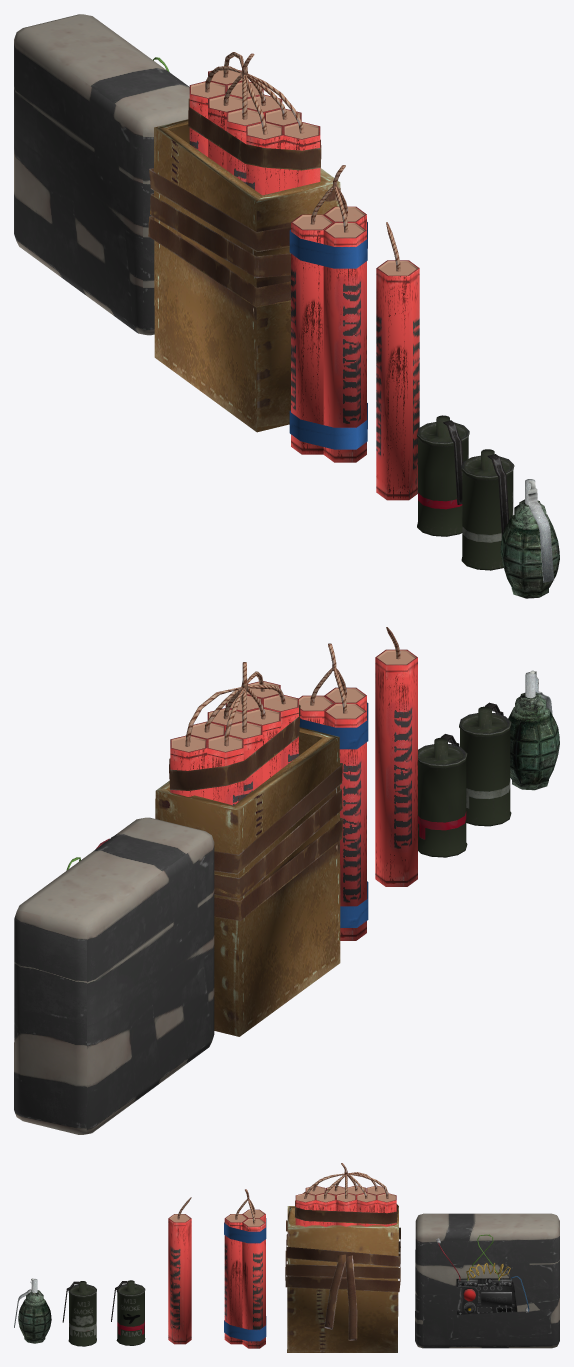
The model's file is взрыв.fbx.
The picture shows the model from 3 angles, top to bottom: view 1: azimuth 30°, elevation 25°; view 2: azimuth 150°, elevation 25°; view 3: azimuth 270°, elevation 25°; orthographic projection. The views are drawn at different scales.
Parts seen in each view (by area): view 1: w_c4_charge (1).001, w_satchel_charge.002, Цилиндр.002, Цилиндр.008, Цилиндр.004, smoke_grenade_LOD0, smoke_grenade_LOD0.001, Сфера; view 2: w_c4_charge (1).001, w_satchel_charge.002, Цилиндр.008, Цилиндр.004, Цилиндр.002, smoke_grenade_LOD0.001, smoke_grenade_LOD0, Сфера; view 3: w_c4_charge (1).001, w_satchel_charge.002, Цилиндр.002, Цилиндр.004, Цилиндр.008, smoke_grenade_LOD0, smoke_grenade_LOD0.001, Сфера.
Boxes of the visible parts, x1=… form: w_c4_charge (1).001: x1=14, y1=14, x2=189, y2=335; w_satchel_charge.002: x1=148, y1=98, x2=340, y2=432; Цилиндр.002: x1=289, y1=165, x2=367, y2=462; Цилиндр.008: x1=376, y1=222, x2=419, y2=500; Цилиндр.004: x1=189, y1=52, x2=320, y2=195; smoke_grenade_LOD0: x1=461, y1=449, x2=514, y2=570; smoke_grenade_LOD0.001: x1=417, y1=415, x2=469, y2=536; Сфера: x1=500, y1=479, x2=559, y2=598; w_c4_charge (1).001: x1=14, y1=817, x2=214, y2=1134; w_satchel_charge.002: x1=155, y1=704, x2=342, y2=1036; Цилиндр.008: x1=375, y1=627, x2=417, y2=886; Цилиндр.004: x1=170, y1=662, x2=298, y2=805; Цилиндр.002: x1=299, y1=643, x2=368, y2=940; smoke_grenade_LOD0.001: x1=418, y1=734, x2=467, y2=857; smoke_grenade_LOD0: x1=459, y1=702, x2=511, y2=826; Сфера: x1=508, y1=670, x2=559, y2=790; w_c4_charge (1).001: x1=415, y1=1213, x2=559, y2=1348; w_satchel_charge.002: x1=285, y1=1190, x2=400, y2=1352; Цилиндр.002: x1=224, y1=1189, x2=266, y2=1348; Цилиндр.004: x1=295, y1=1163, x2=396, y2=1226; Цилиндр.008: x1=168, y1=1197, x2=191, y2=1344; smoke_grenade_LOD0: x1=62, y1=1281, x2=96, y2=1346; smoke_grenade_LOD0.001: x1=111, y1=1280, x2=145, y2=1345; Сфера: x1=14, y1=1278, x2=51, y2=1343.
Bounding box in the file's own units: 1638 × 4061 × 11252.
